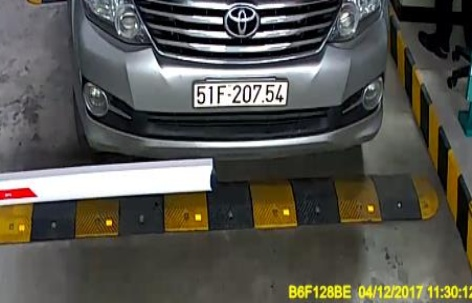plate: (190, 77, 293, 109)
